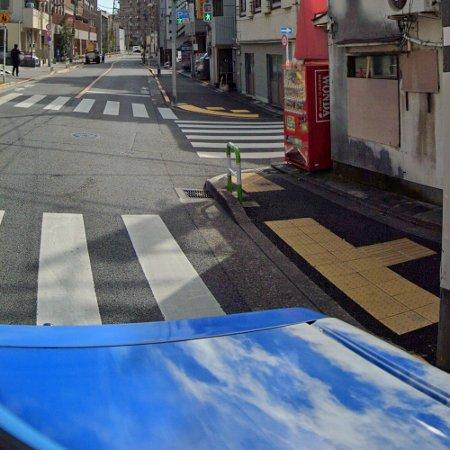crosswalks: (0, 92, 179, 120)
